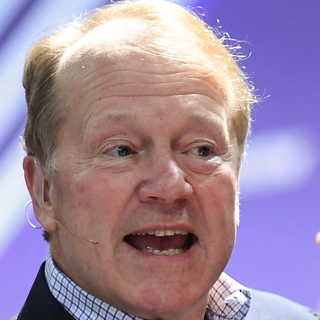eye: (99, 141, 147, 164), (180, 140, 222, 162)
